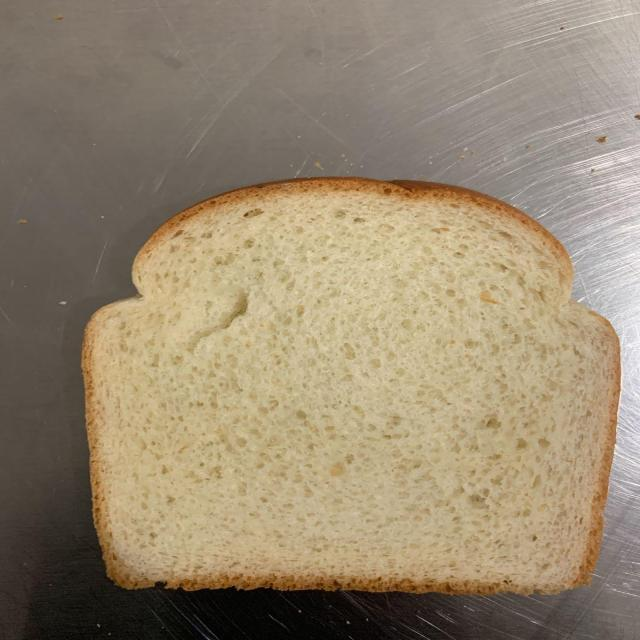sliced_bread: (81, 176, 623, 598)
